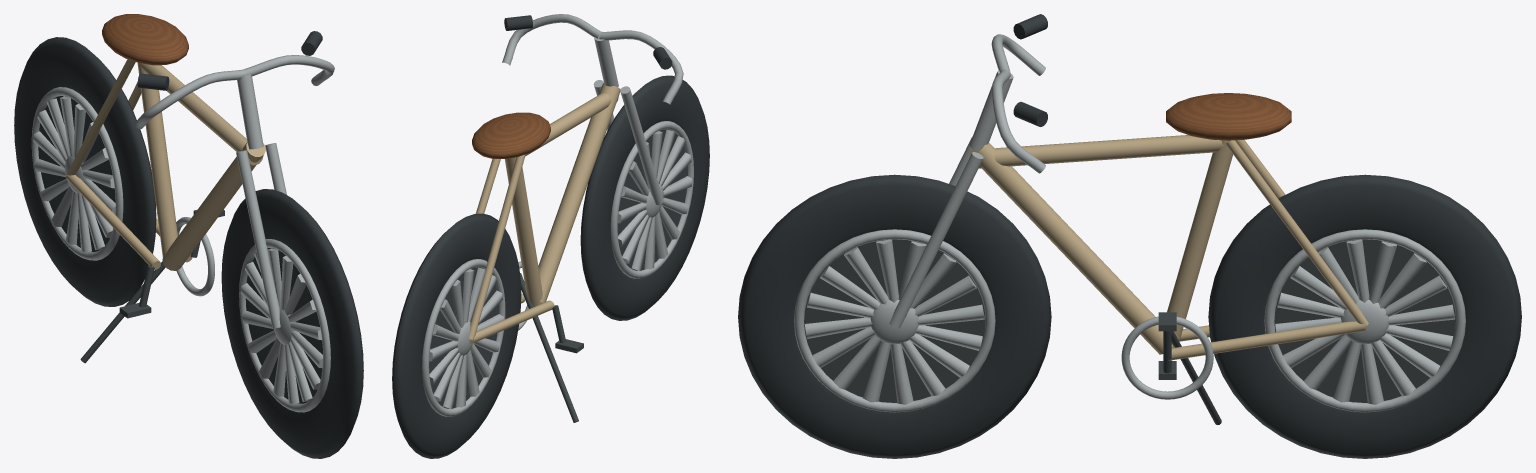
File: veh_bike_road-585752dd5274.glb
3 views of the same model, side by side, from view 1: azimuth 30°, elevation 25°; view 2: azimuth 150°, elevation 25°; view 3: azimuth 270°, elevation 25° (orthographic). The views are drawn at different scales.
Visible parts, largest first — view 1: surface_rubber (×3), surface_steel (×4), surface_#baa785, surface_graphite (×3), surface_walnut; view 2: surface_rubber (×3), surface_steel (×3), surface_#baa785, surface_graphite (×3), surface_walnut; view 3: surface_rubber (×3), surface_steel (×4), surface_#baa785, surface_graphite (×3), surface_walnut.
Part boxes in pixels (x1=…): surface_rubber (×3): x1=14, y1=31, x2=363, y2=458; surface_steel (×4): x1=31, y1=55, x2=334, y2=412; surface_#baa785: x1=66, y1=59, x2=265, y2=270; surface_graphite (×3): x1=38, y1=96, x2=322, y2=403; surface_walnut: x1=102, y1=14, x2=188, y2=65; surface_rubber (×3): x1=392, y1=15, x2=709, y2=458; surface_steel (×3): x1=422, y1=14, x2=693, y2=416; surface_#baa785: x1=468, y1=83, x2=620, y2=343; surface_graphite (×3): x1=429, y1=129, x2=687, y2=422; surface_walnut: x1=472, y1=112, x2=550, y2=158; surface_rubber (×3): x1=738, y1=14, x2=1521, y2=458; surface_steel (×4): x1=794, y1=34, x2=1465, y2=412; surface_#baa785: x1=969, y1=135, x2=1368, y2=360; surface_graphite (×3): x1=804, y1=239, x2=1455, y2=424; surface_walnut: x1=1166, y1=93, x2=1291, y2=140.
Bounding box in the file's own units: 0.5368 × 0.9559 × 1.7.
5 materials, 1 textured.
